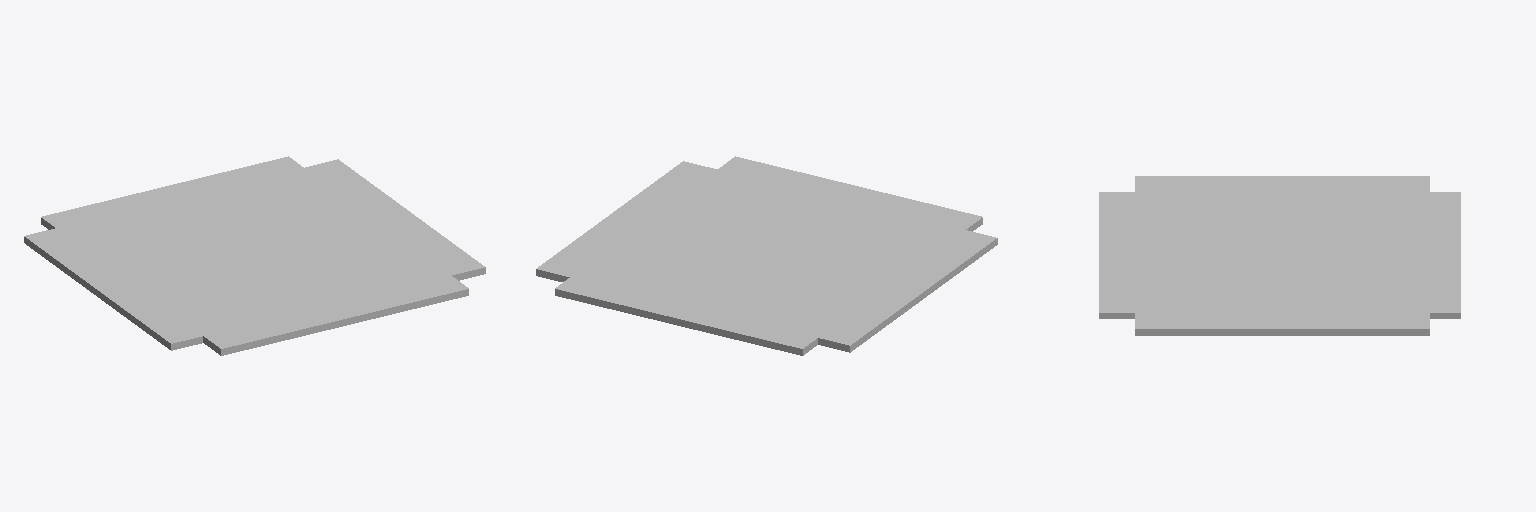
Rendered from elevator floor.obj.
3 views of the same model, side by side, from view 1: azimuth 30°, elevation 25°; view 2: azimuth 150°, elevation 25°; view 3: azimuth 270°, elevation 25° (orthographic).
Visible parts, largest first — view 1: Cube; view 2: Cube; view 3: Cube.
Part boxes in pixels (left/top/right/bottom): Cube: left=24, top=156, right=485, bottom=355; Cube: left=536, top=156, right=997, bottom=355; Cube: left=1099, top=176, right=1460, bottom=335.
Bounding box in the file's own units: 10.69 × 0.225 × 10.65.